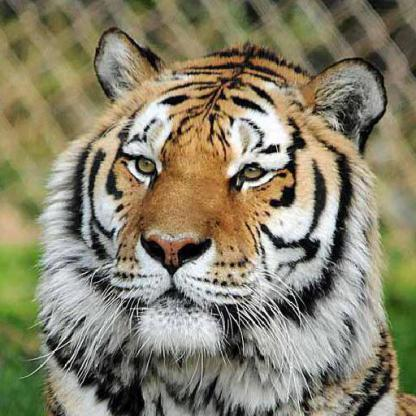tiger: (77, 33, 373, 355)
